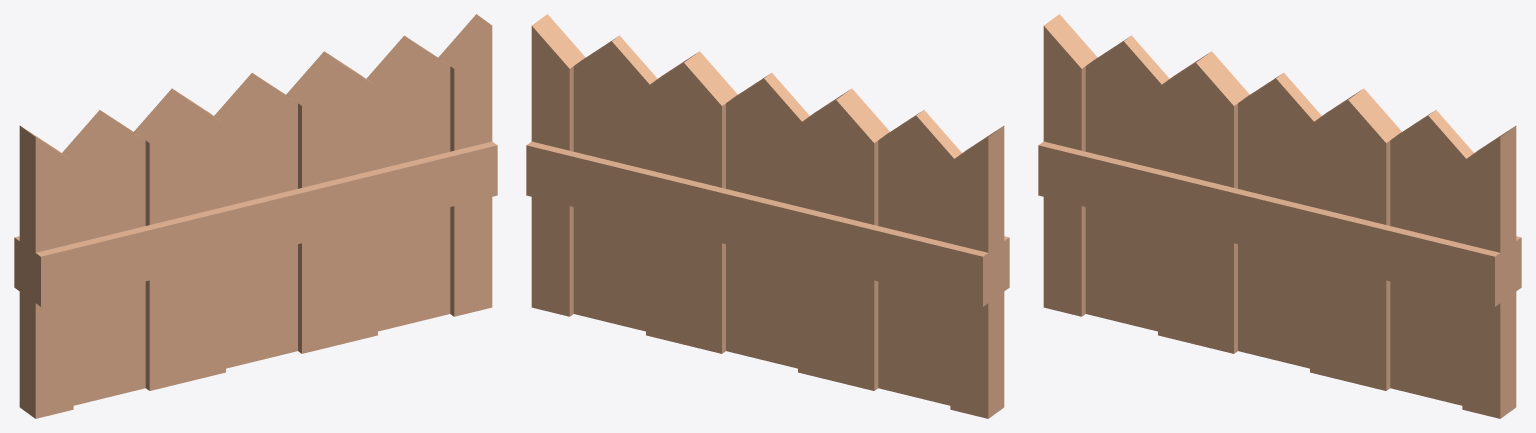
Rendered from fence.glb.
3 renders of one model, left to right at view 1: azimuth 30°, elevation 25°; view 2: azimuth 150°, elevation 25°; view 3: azimuth 330°, elevation 25°, orthographic.
Visible parts, largest first — view 1: fence, board; view 2: fence, board; view 3: fence, board.
Boxes of the visible parts, left/top/right/bottom form: fence: left=19, top=14, right=492, bottom=418; board: left=35, top=141, right=497, bottom=306; fence: left=531, top=14, right=1004, bottom=418; board: left=526, top=141, right=988, bottom=306; fence: left=1043, top=14, right=1516, bottom=418; board: left=1038, top=141, right=1500, bottom=306.
Bounding box in the file's own units: 1 × 0.59 × 0.1.
